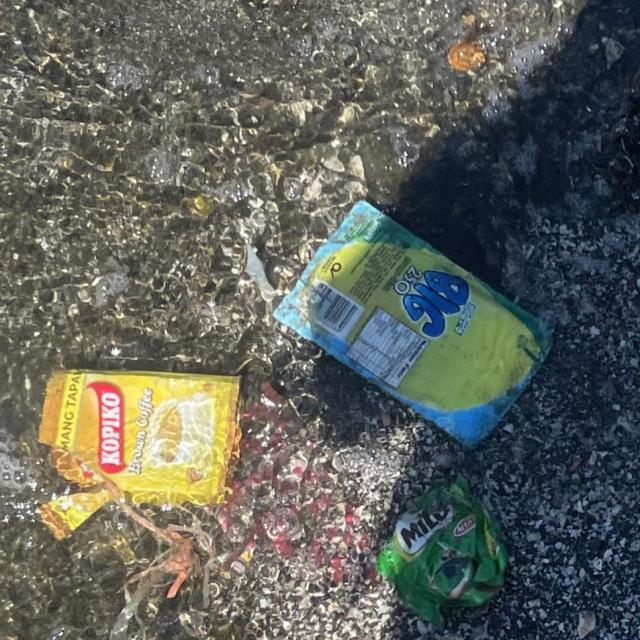plastic_waste: (273, 198, 556, 445), (39, 369, 245, 508), (377, 478, 511, 632)
